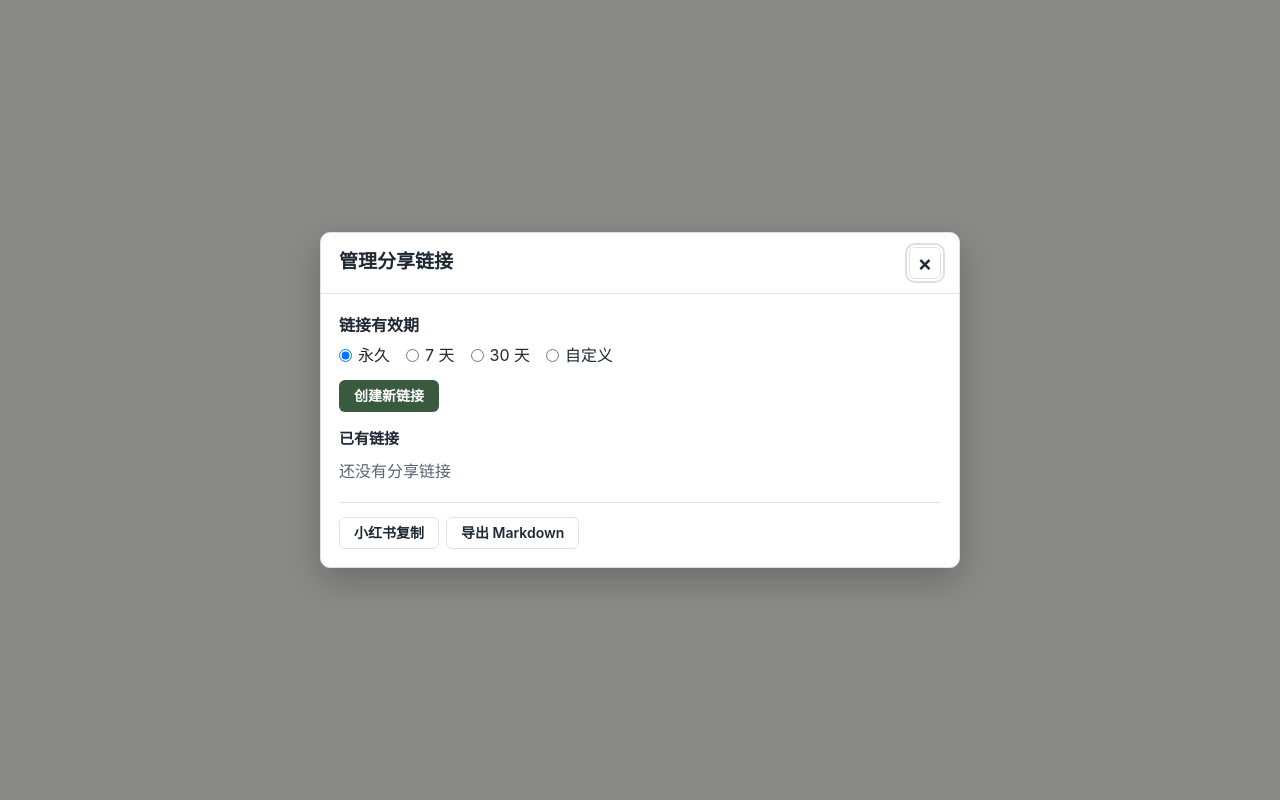
it: ShareDialog › retains the created row and dialog when its automatic clipboard copy fails
What coordinates should you click on to do the following:
click the button "创建新链接"
I would click on:
 (389, 396)
Its box is [339,380,439,412].
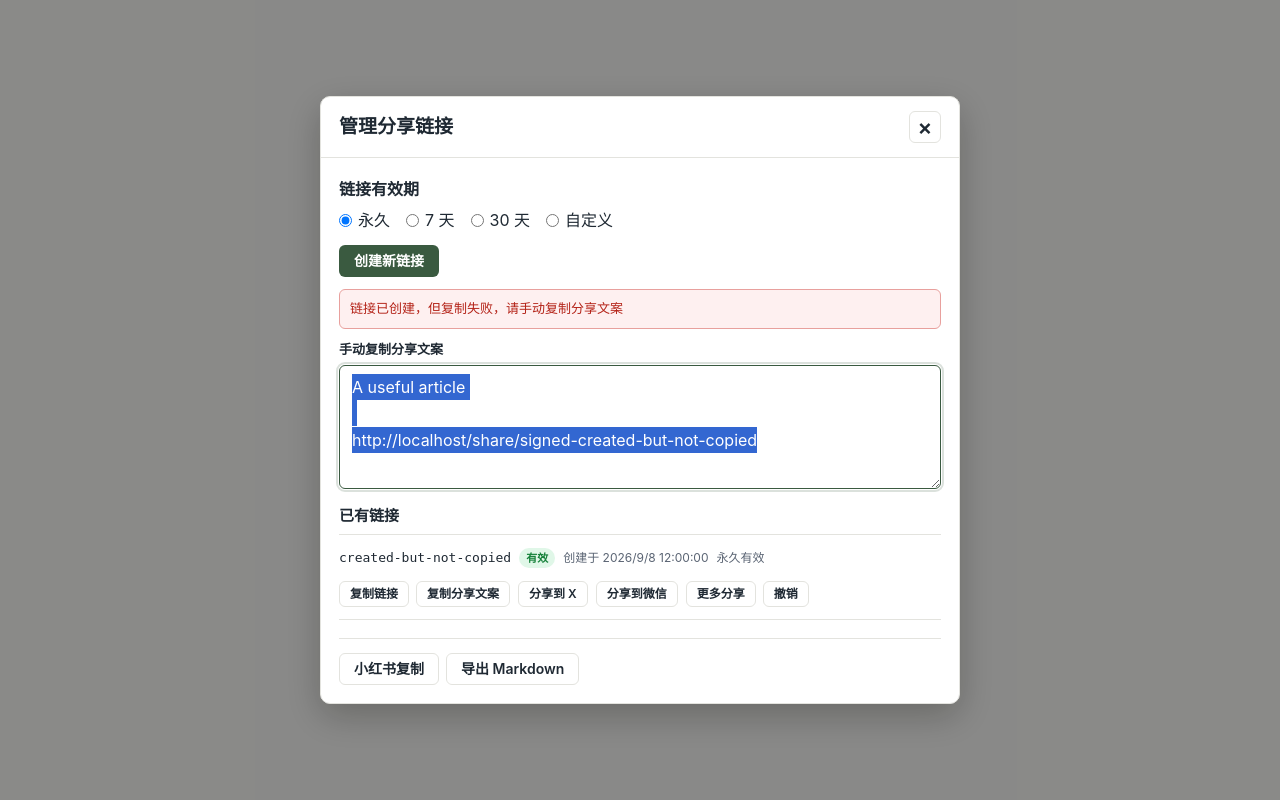
Expected: the dialog is shown, [320,96,960,704]
Expected: the text "链接已创建，但复制失败，请手动复制分享文案" is shown, [339,289,941,329]
Expected: the text "created-but-not-copied" is shown, [339,547,511,568]
